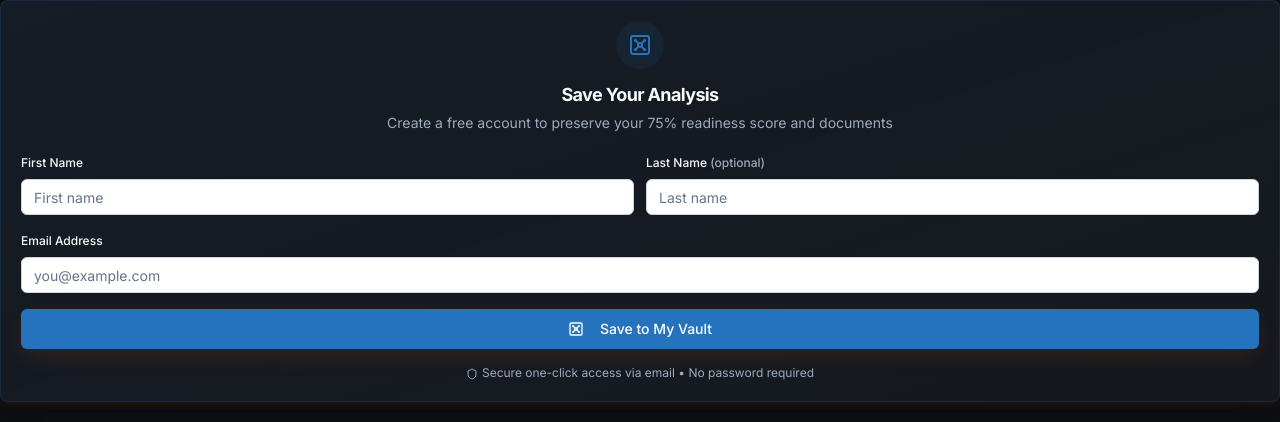
Test: ClaimVaultSyncButton › Form Submission › shows success state after successful submission
The width and height of the screenshot is (1280, 422).
In the field labelled "First Name": (328, 197) [21, 179, 634, 215], type "John"
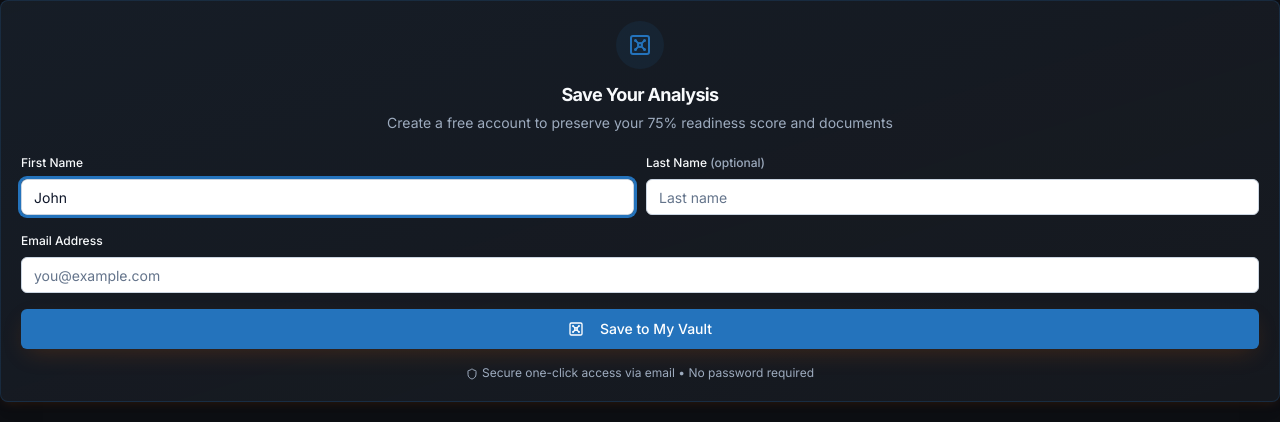
In the field labelled "Email Address": (640, 275) [21, 257, 1259, 293], type "john@example.com"
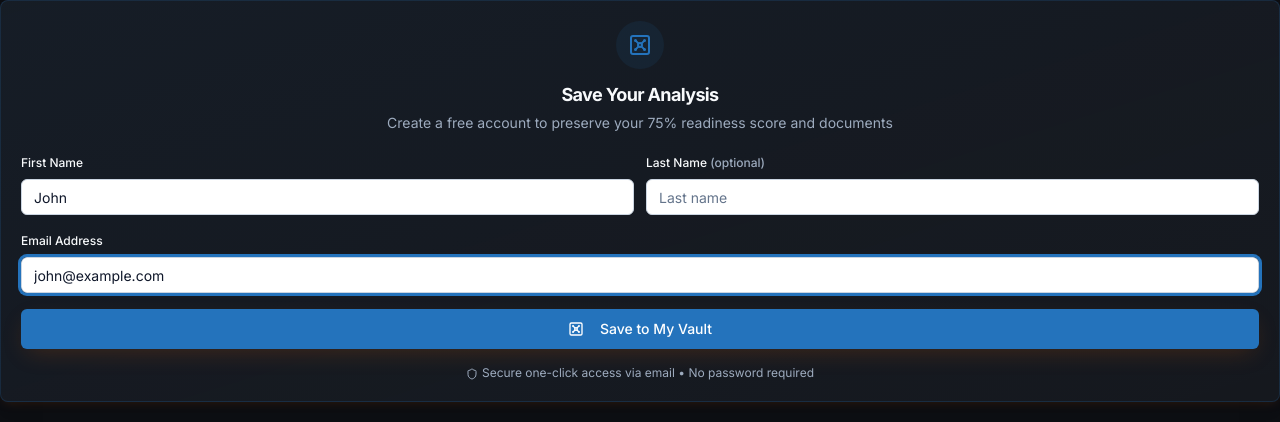
Click the button "Save to My Vault": (640, 329) [21, 309, 1259, 349]
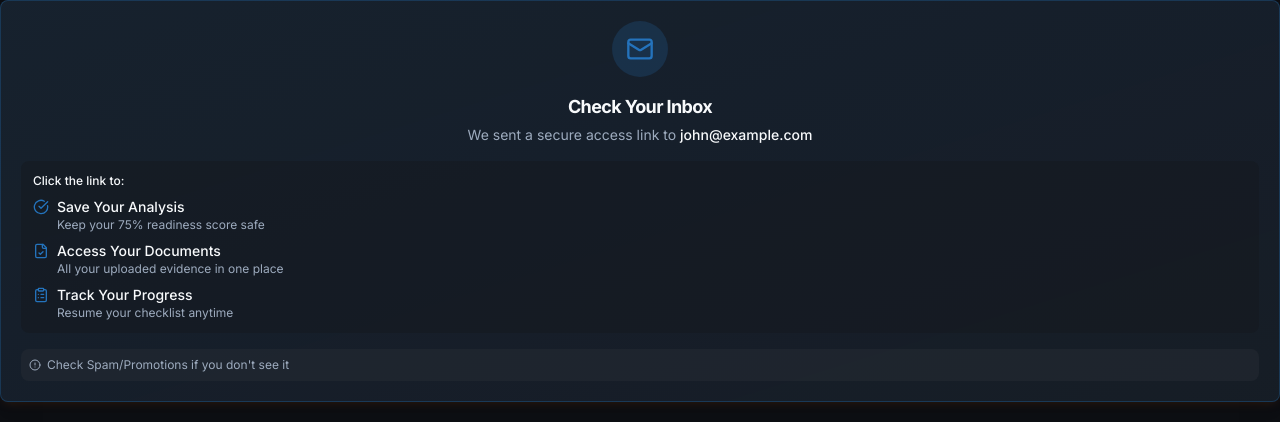
Expected: the heading "Check Your Inbox" is shown, [568, 96, 712, 117]
Expected: the text "john@example.com" is shown, [680, 126, 812, 143]
